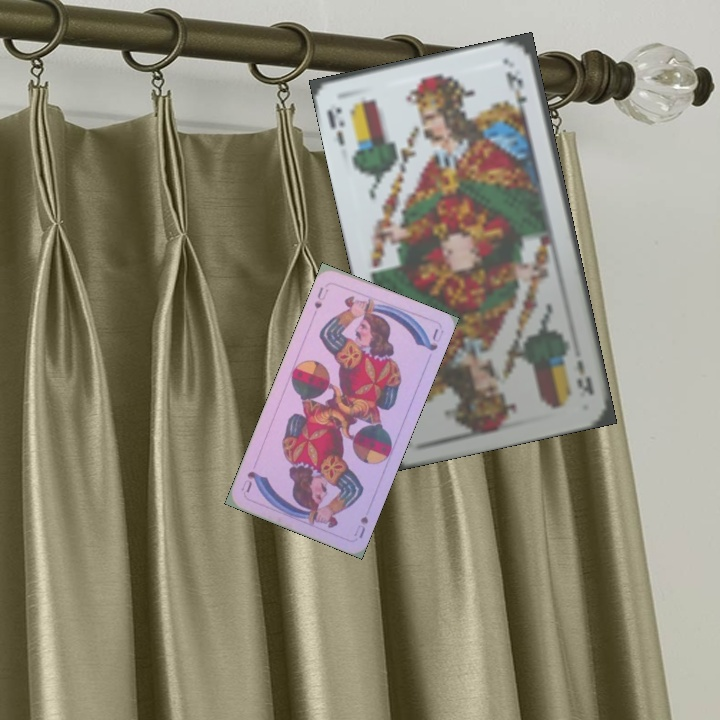EK: (323, 103, 348, 149), (572, 355, 597, 398)
SU: (309, 283, 331, 319), (350, 512, 371, 541)
